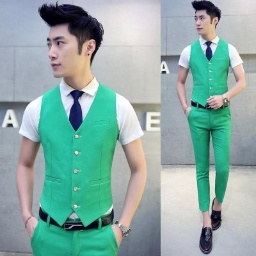face: (36, 3, 105, 77), (188, 1, 224, 36)
